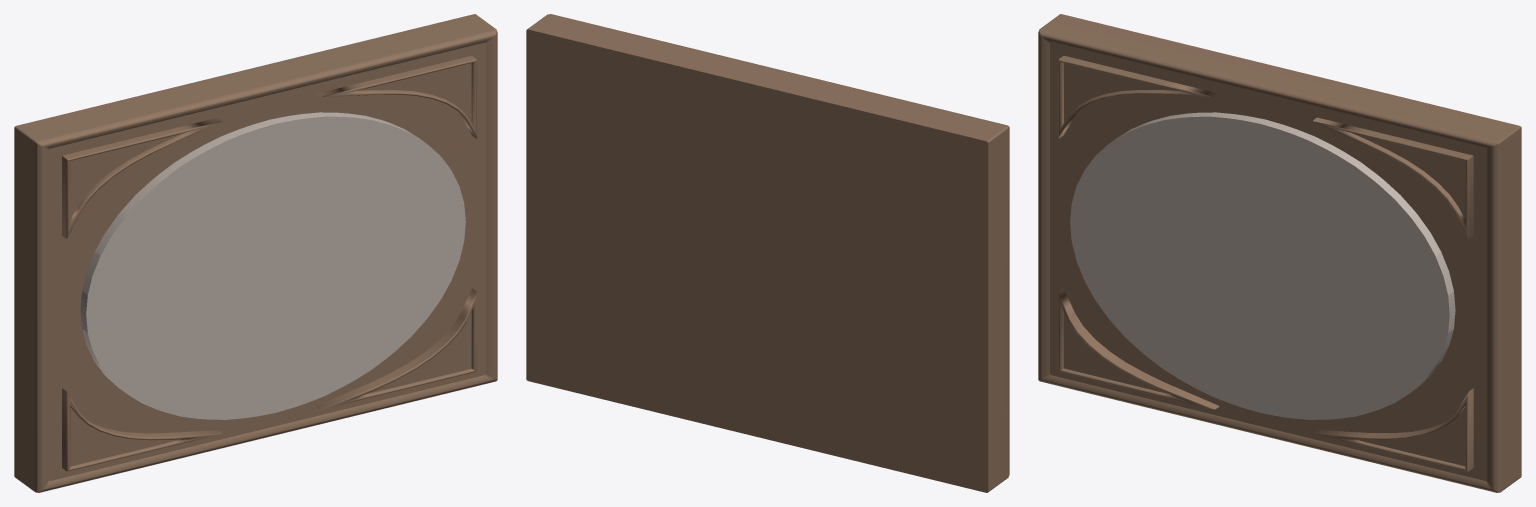
The model's file is espejo(baño).fbx.
The picture shows the model from 3 angles, left to right: view 1: azimuth 30°, elevation 25°; view 2: azimuth 150°, elevation 25°; view 3: azimuth 330°, elevation 25°; orthographic projection.
Visible parts, largest first — view 1: polySurface167; view 2: polySurface167; view 3: polySurface167.
Boxes of the visible parts, x1=… form: polySurface167: x1=14, y1=14, x2=497, y2=492; polySurface167: x1=526, y1=14, x2=1009, y2=492; polySurface167: x1=1038, y1=14, x2=1521, y2=492.
Size of the model in its own units: 1.41 by 1.03 by 0.163.
